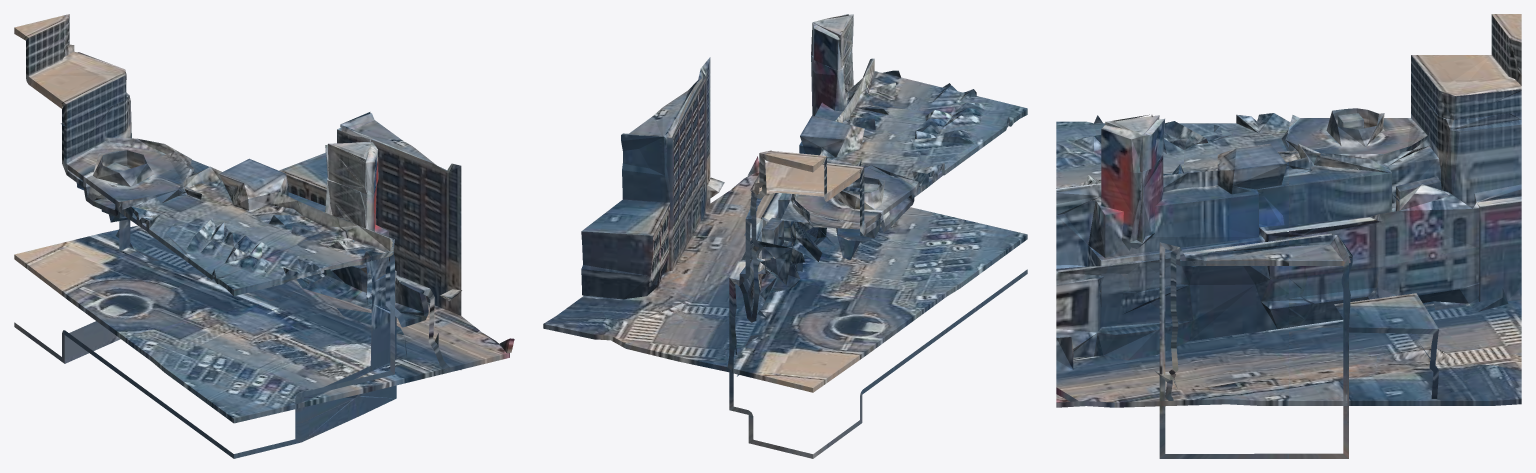
Rendered from chunk_0_5.glb.
3 renders of one model, left to right at view 1: azimuth 30°, elevation 25°; view 2: azimuth 150°, elevation 25°; view 3: azimuth 270°, elevation 25°, orthographic. The views are drawn at different scales.
Parts seen in each view (by area): view 1: hero-chunk; view 2: hero-chunk; view 3: hero-chunk.
Boxes of the visible parts, x1,y1,x2,y2 form: hero-chunk: [14, 14, 514, 458]; hero-chunk: [543, 14, 1027, 458]; hero-chunk: [1056, 14, 1521, 458].
Size of the model in its own units: 56.66 by 57.47 by 76.32.
Materials: 3 (3 with a texture image).
